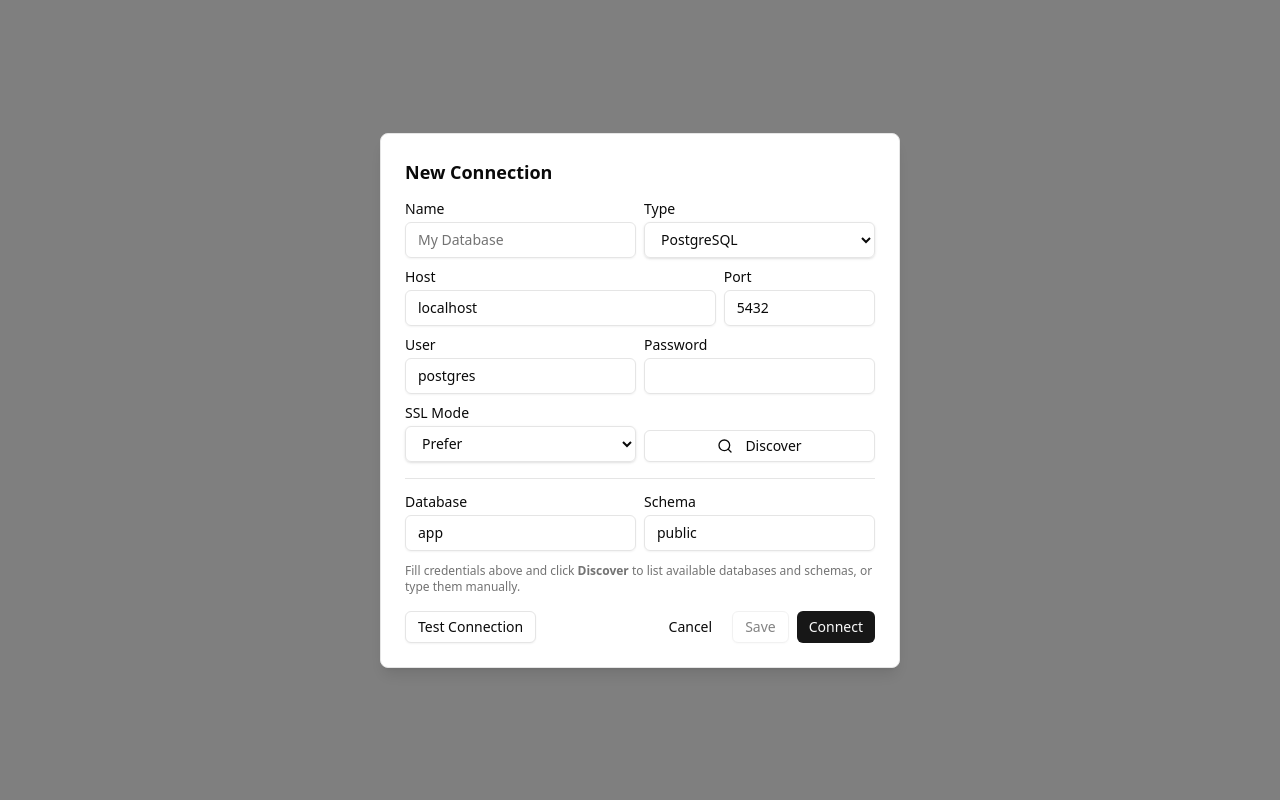
Test: ConnectionDialog SSL modes › shows the fallback warning after discovery uses plaintext
Click the button "Discover" at (760, 446), box left=644, top=430, right=875, bottom=462
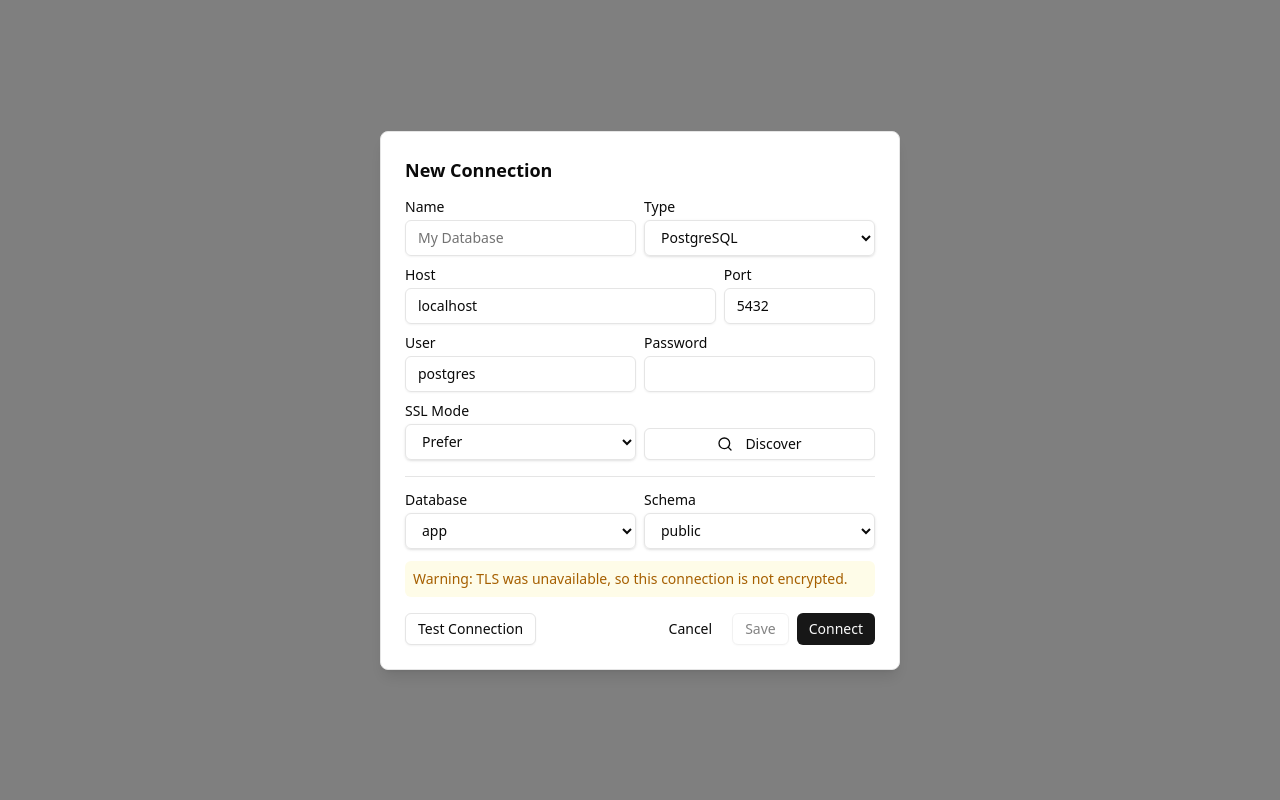
Check: the text "Warning: TLS was unavailable, so this connection is not encrypted." is shown, box left=405, top=560, right=875, bottom=596
